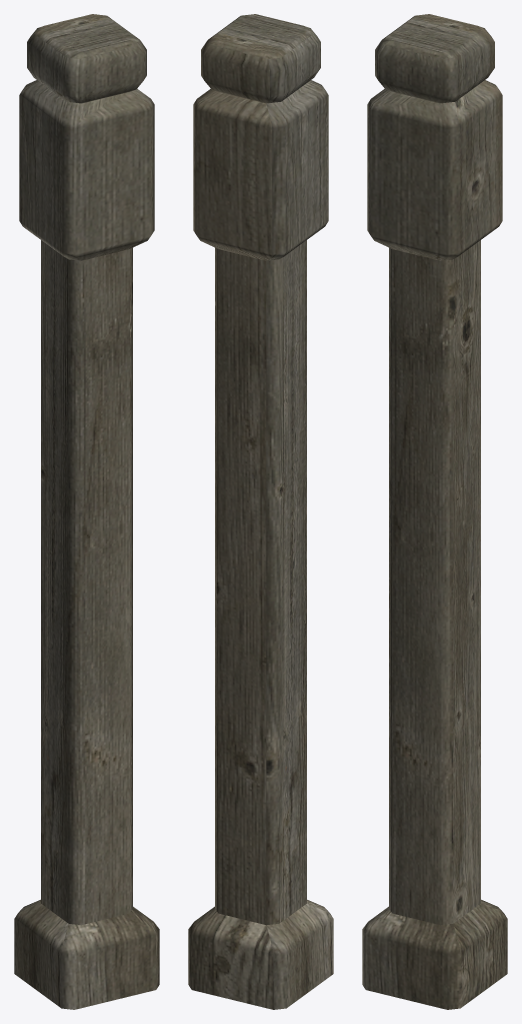
File: Barier_el1.fbx
3 views of the same model, side by side, from view 1: azimuth 30°, elevation 25°; view 2: azimuth 150°, elevation 25°; view 3: azimuth 330°, elevation 25° (orthographic).
Parts seen in each view (by area): view 1: pCube3; view 2: pCube3; view 3: pCube3.
Part boxes in pixels (bbox=[...]): pCube3: bbox=[14, 14, 159, 1009]; pCube3: bbox=[188, 14, 333, 1009]; pCube3: bbox=[362, 14, 507, 1009].
Size of the model in its own units: 15.26 by 140 by 15.26.
1 material, 1 textured.
